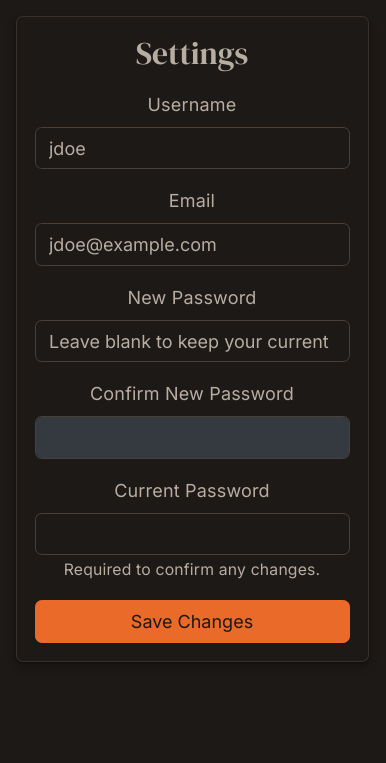
Test: SettingsPage › updates the username and email without changing the password
Replace the text in the field labelled "Username" with "newname" at point(192, 148), box 34,127 -> 350,169
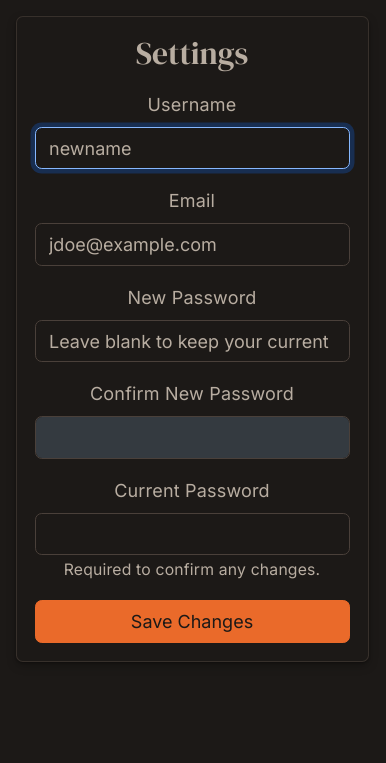
Type "hunter2" into the password field labelled "Current Password" at point(192, 534), box 34,513 -> 350,555
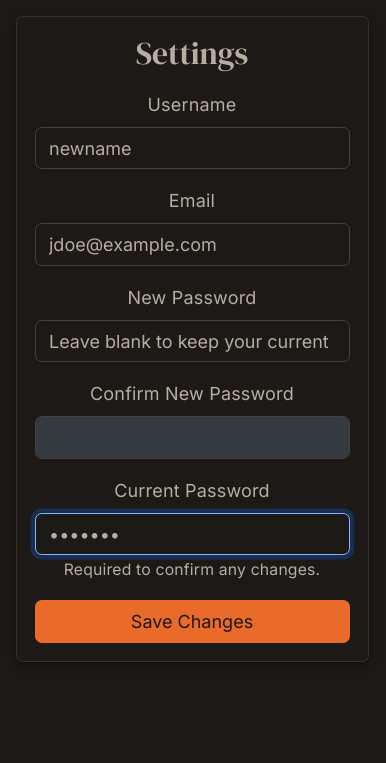
Click the button "Save Changes" at point(192, 622), box 34,600 -> 350,643
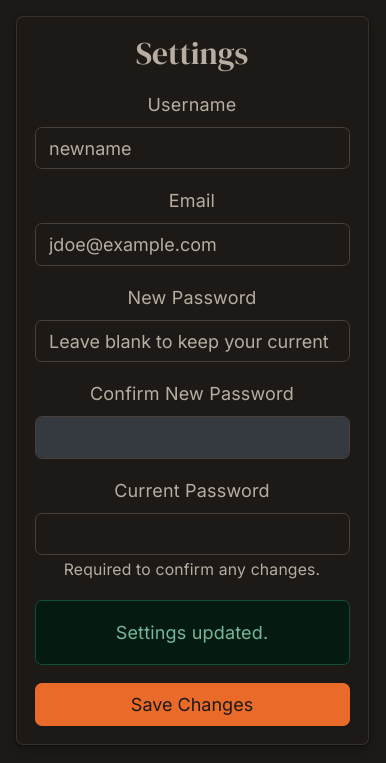
Now the message reads "Settings updated.", box 116,622 -> 268,643
